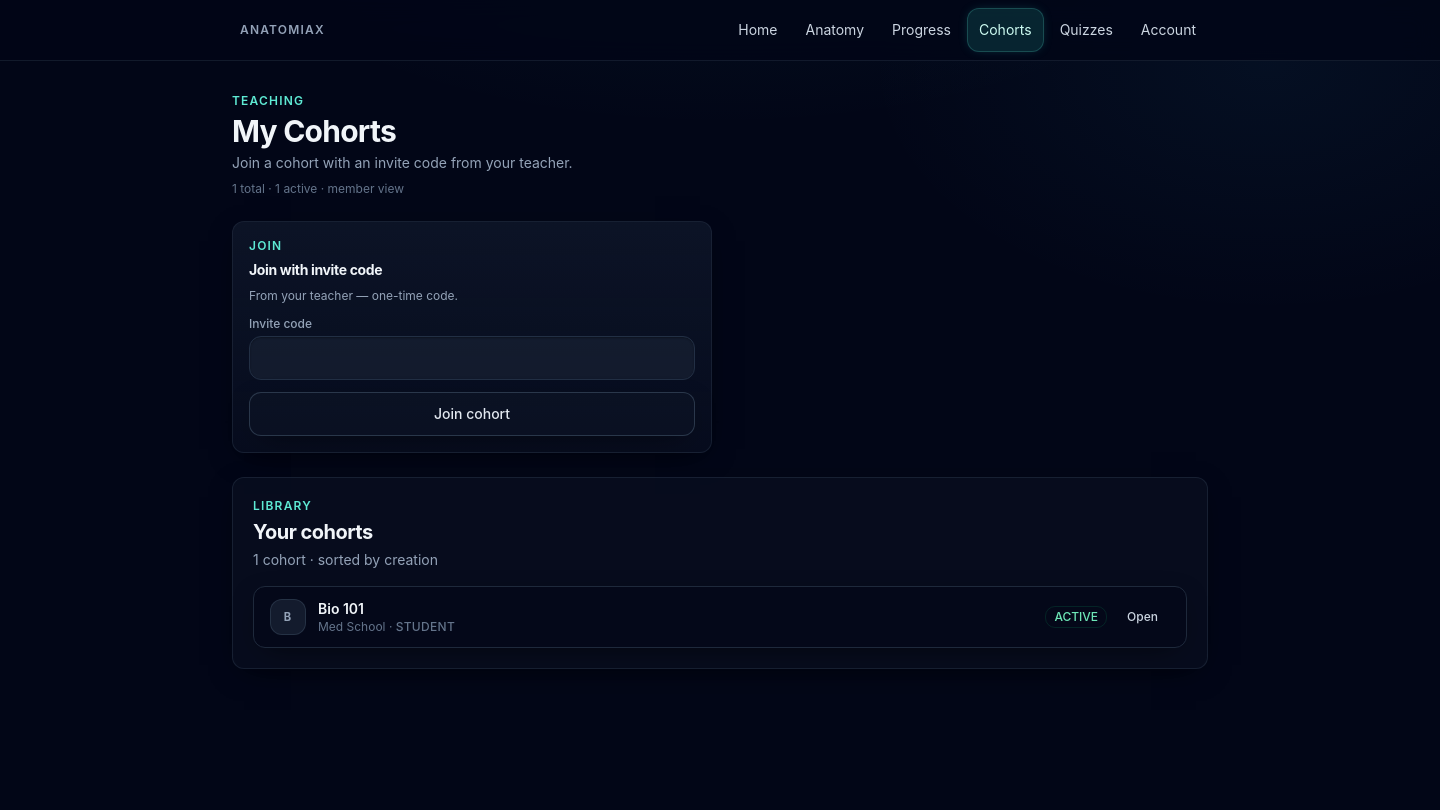
Test case: student cohorts (8.20.4) › rejects invalid codes and duplicate joins
The image size is (1440, 810).
Expected: the list with test id "cohorts-list" is shown, [253,586,1187,648]
Type "nope" into the field with test id "cohort-join-code" at x=472, y=358, box [249,336,695,380]
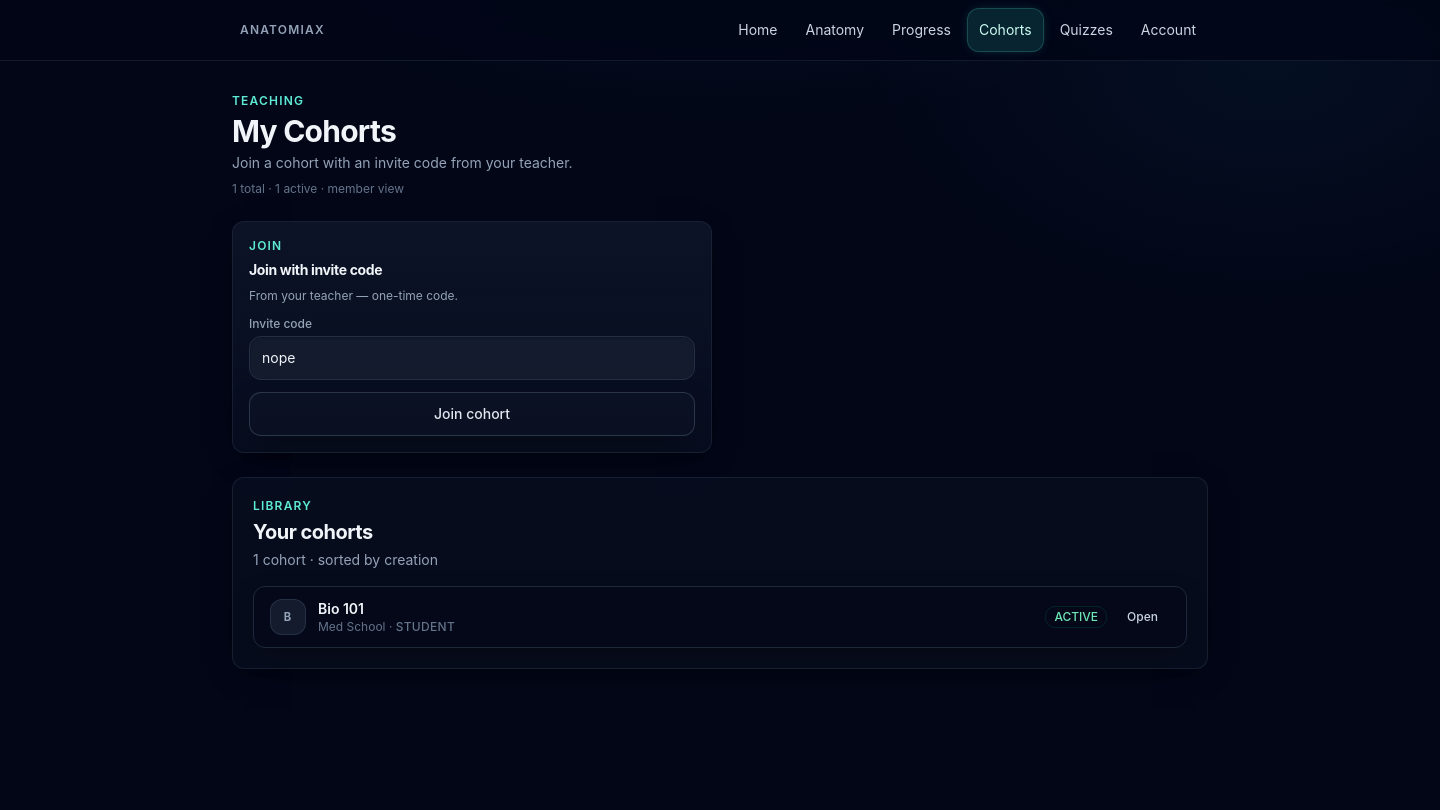
Click the button with test id "cohort-join-submit" at x=472, y=414, box [249,392,695,436]
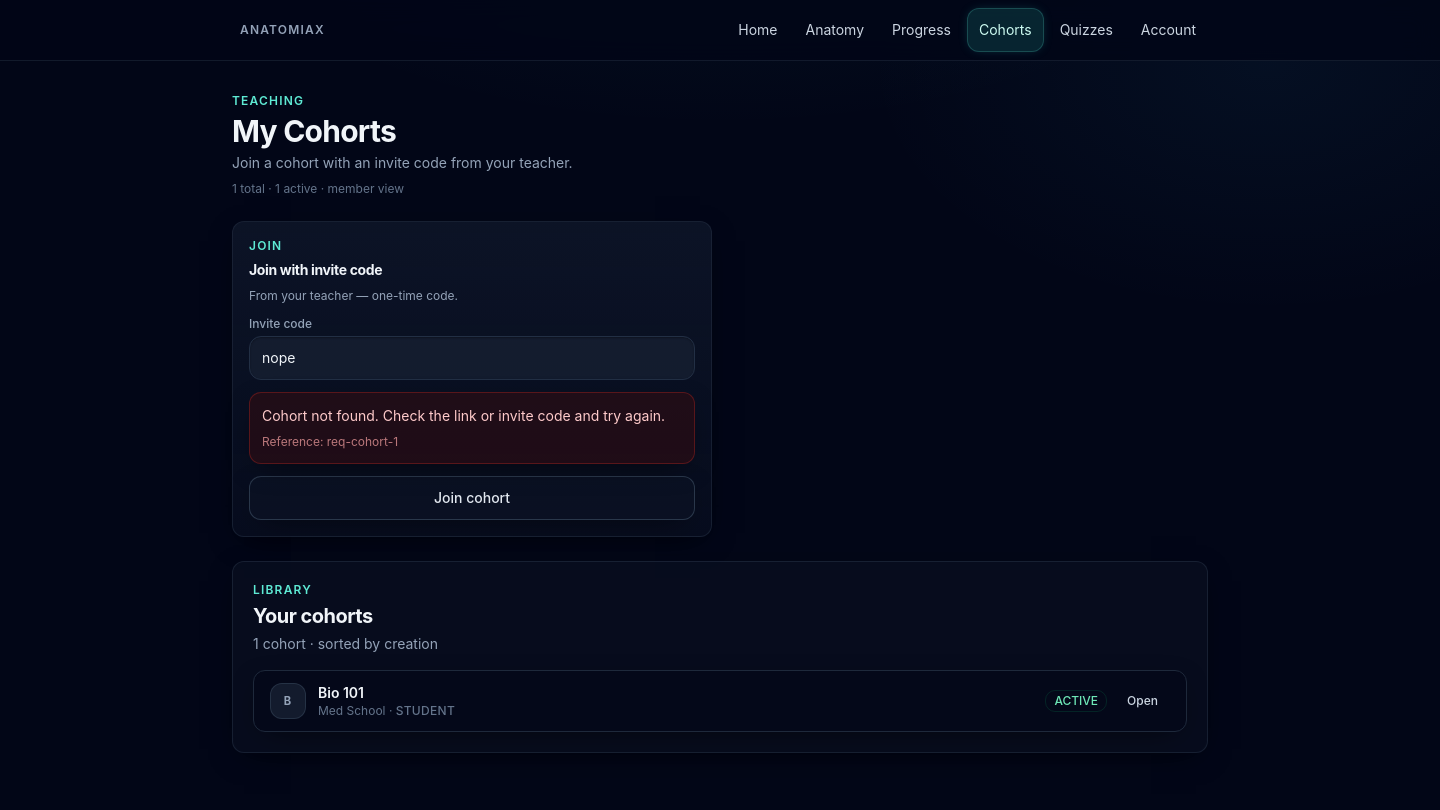
Expected: the message with test id "cohort-join-error" shows "Cohort not found", [262,407,665,424]
Replace the text in the field with test id "cohort-join-code" with "invite-A" at x=472, y=358, box [249,336,695,380]
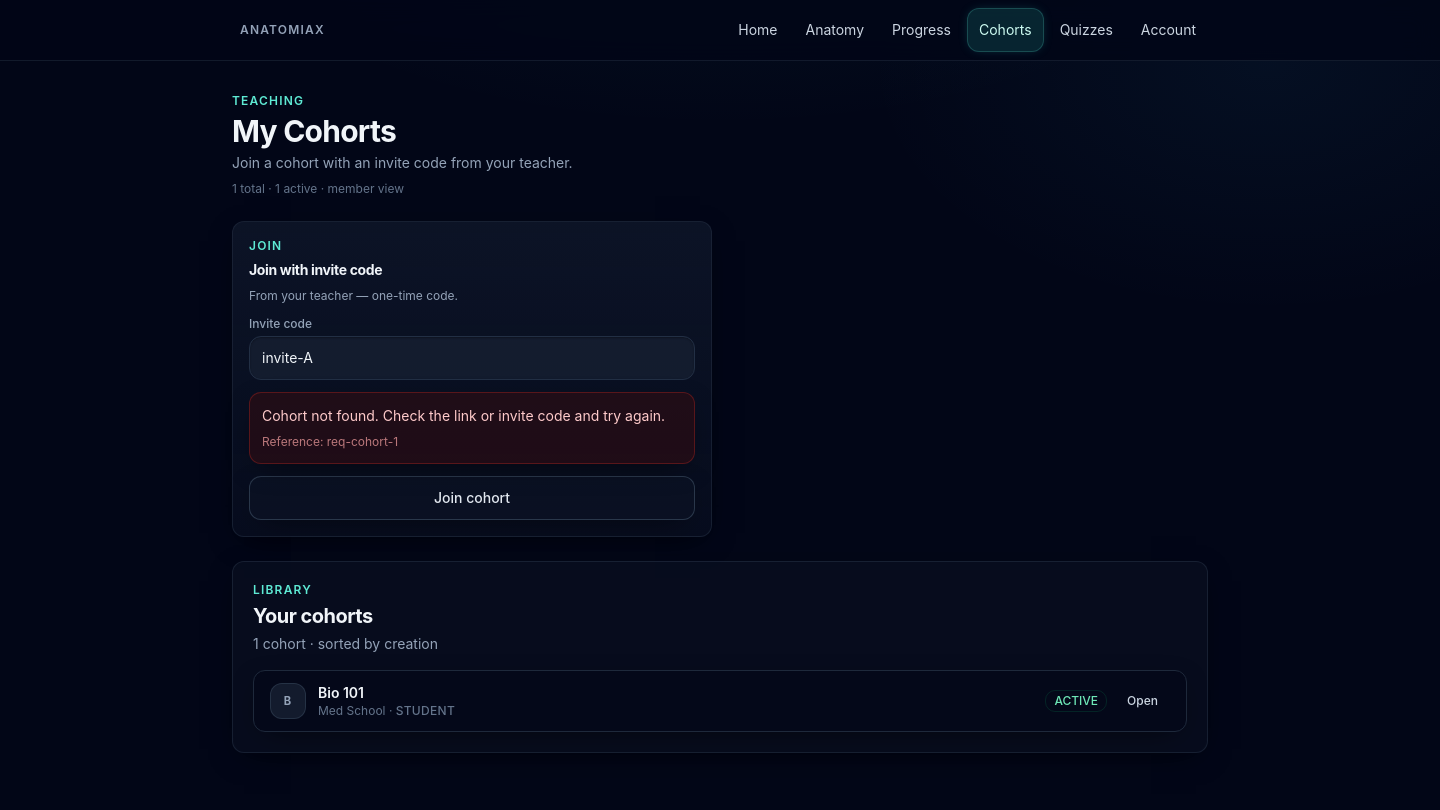
Click the button with test id "cohort-join-submit" at x=472, y=498, box [249,476,695,520]
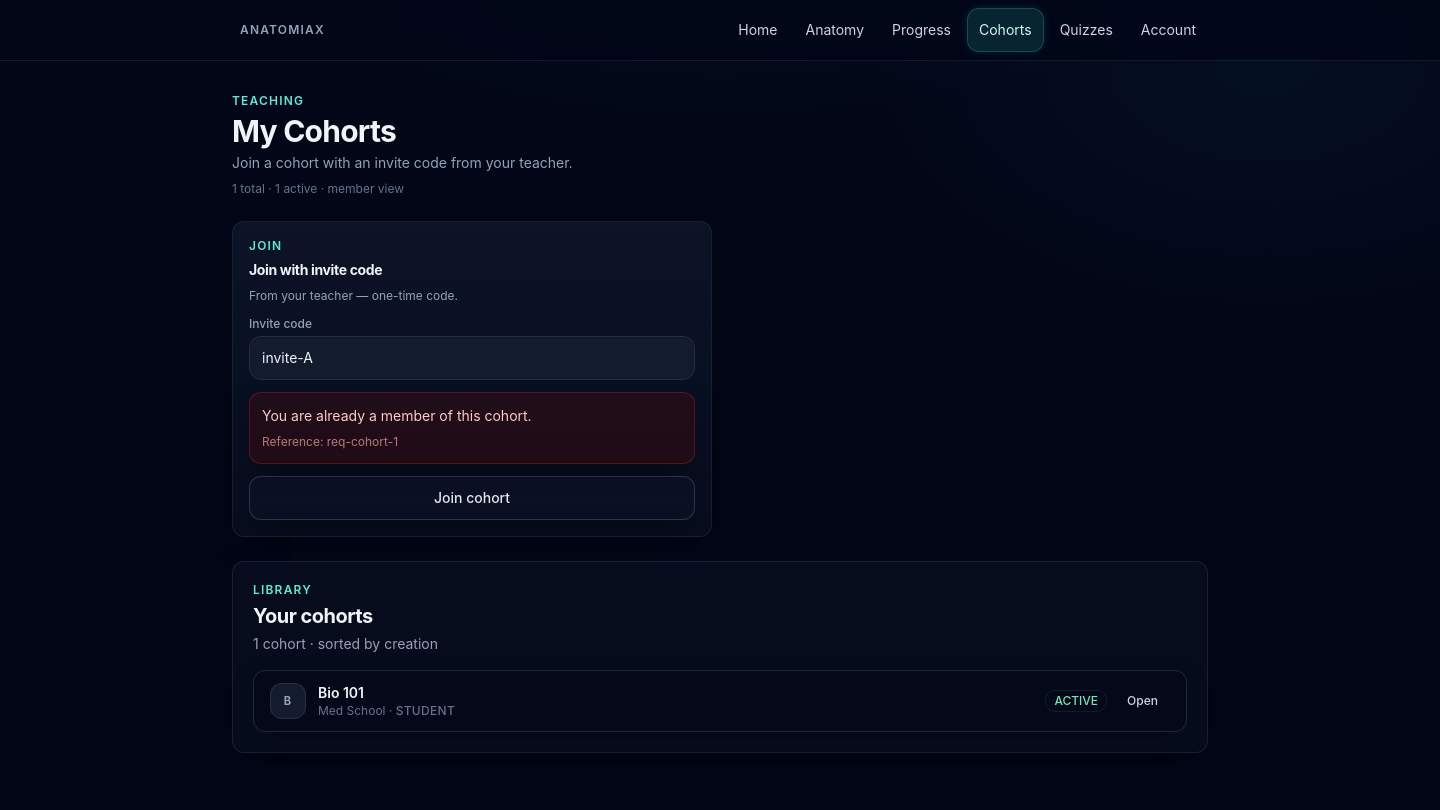
Expected: the message with test id "cohort-join-error" shows "already a member", [262,407,532,424]
